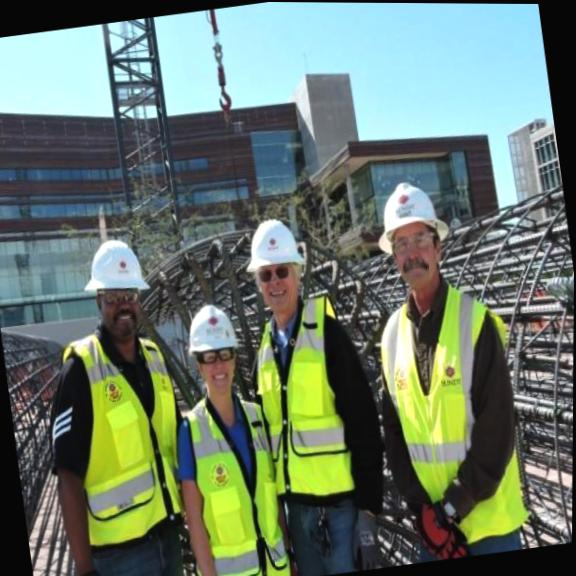safety_vest: (369, 270, 539, 559), (53, 319, 197, 556), (244, 302, 365, 510), (176, 379, 293, 576)
